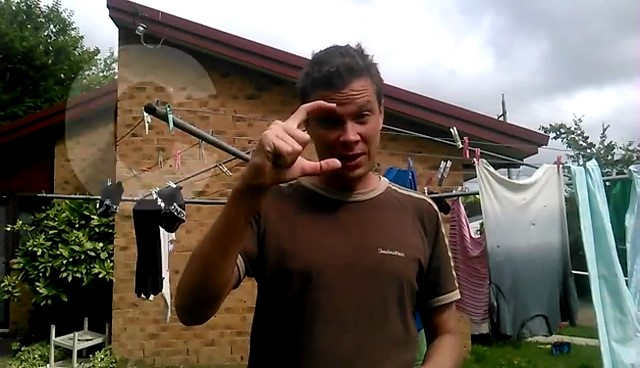C: (242, 93, 361, 195)
